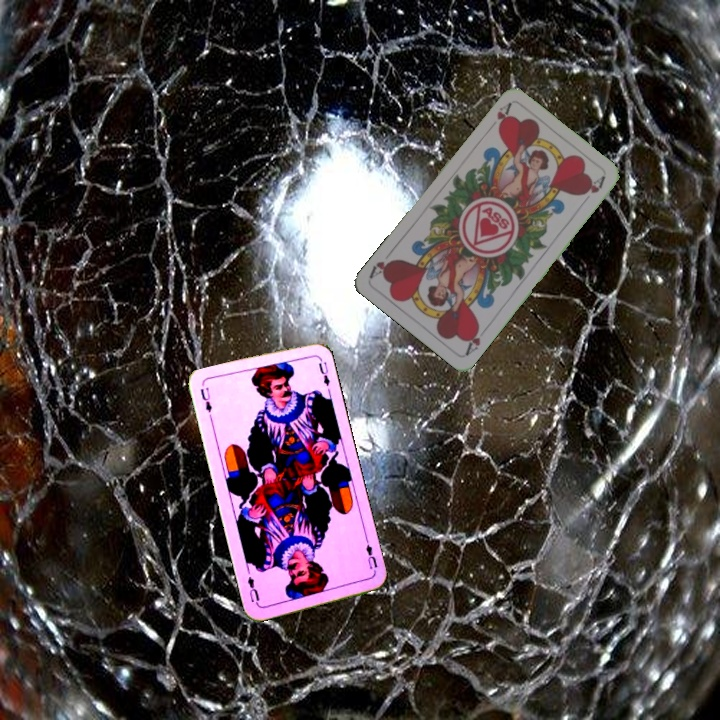EU: (196, 383, 215, 423), (362, 536, 380, 572)
HA: (483, 99, 514, 134), (462, 321, 491, 358)
